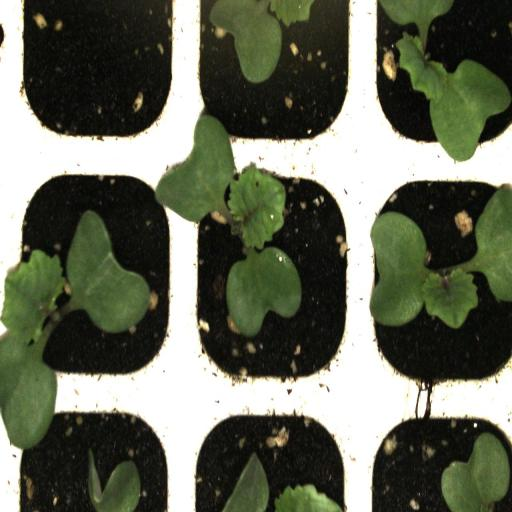noseedling: (9, 0, 186, 150)
seedling: (186, 148, 360, 403), (9, 150, 185, 395), (362, 150, 512, 406), (363, 0, 512, 160)
